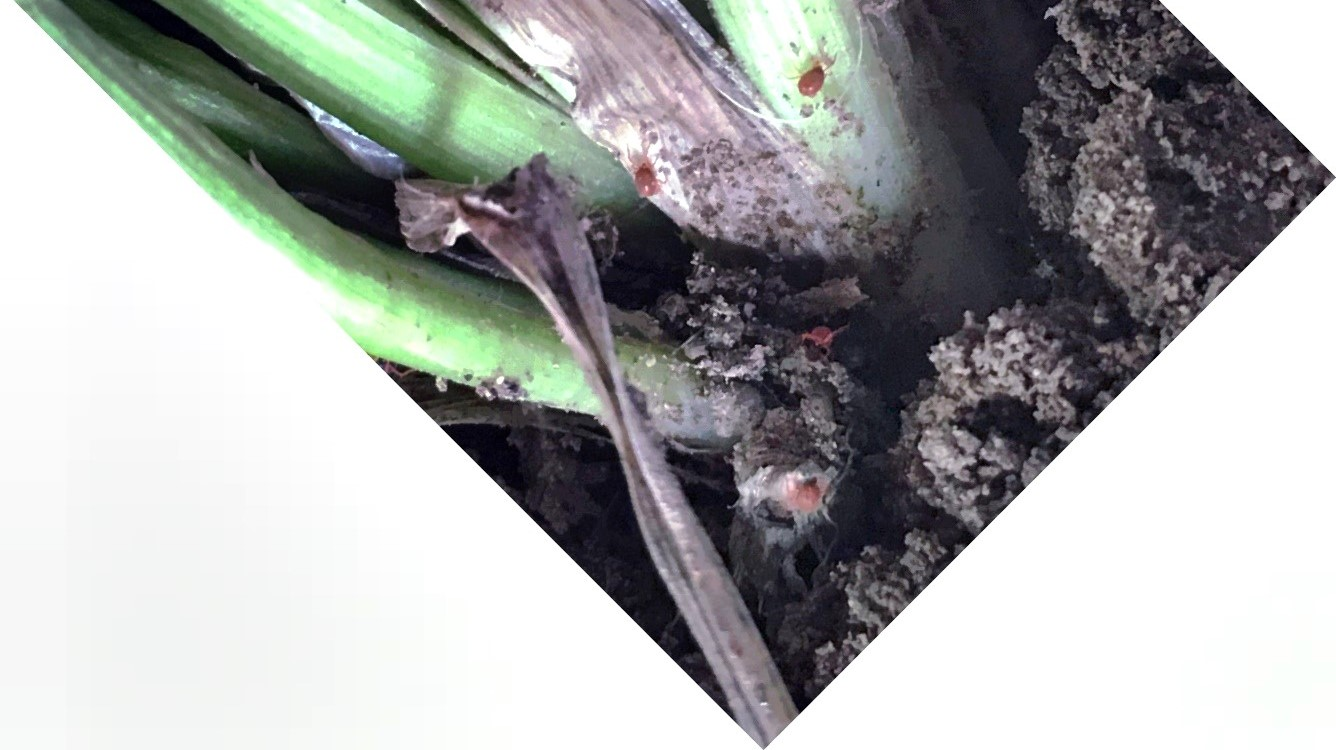Wheat Red Spider: (775, 40, 858, 111), (614, 135, 672, 213)
